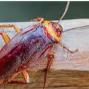cockroach: (1, 20, 64, 82)
